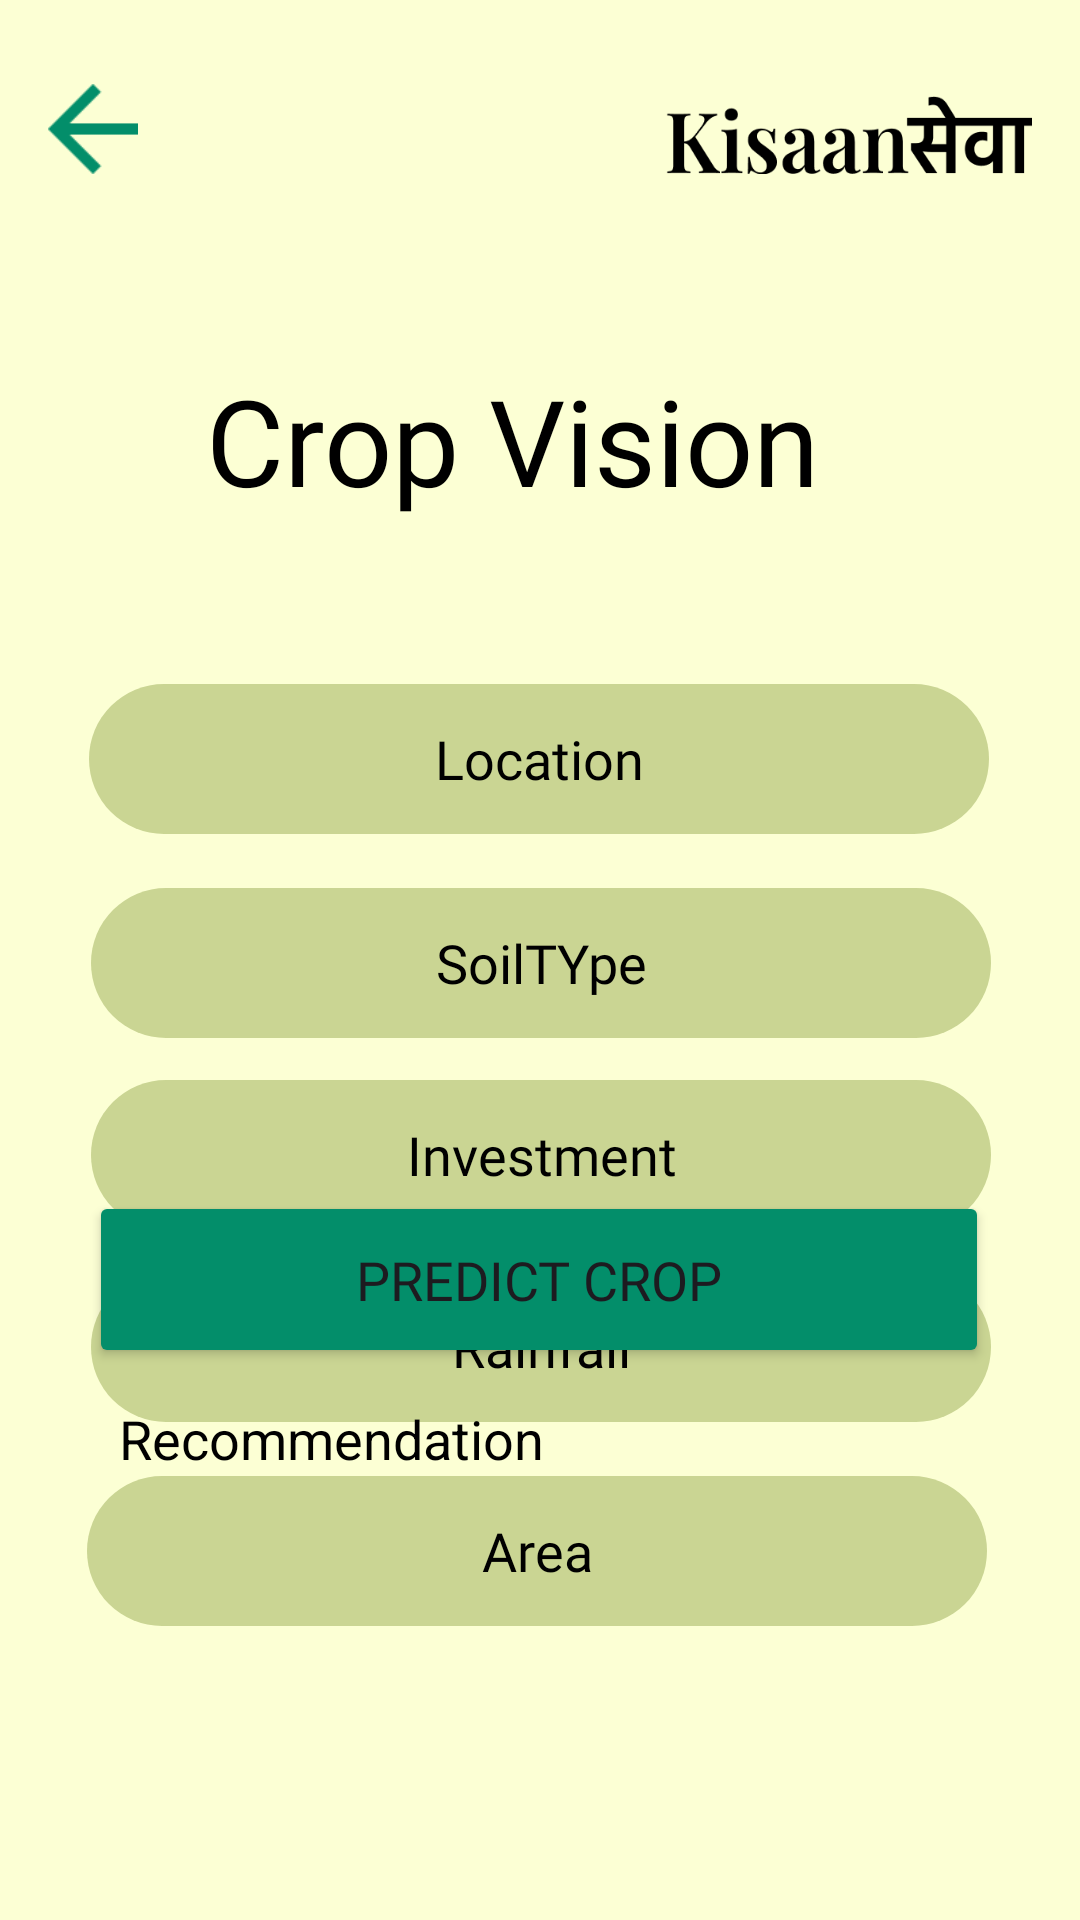

Named icons in this screenshot (1080*1920) and their bounding boxes, (x1, y1, x2, y2):
back: (48, 84, 138, 174)
